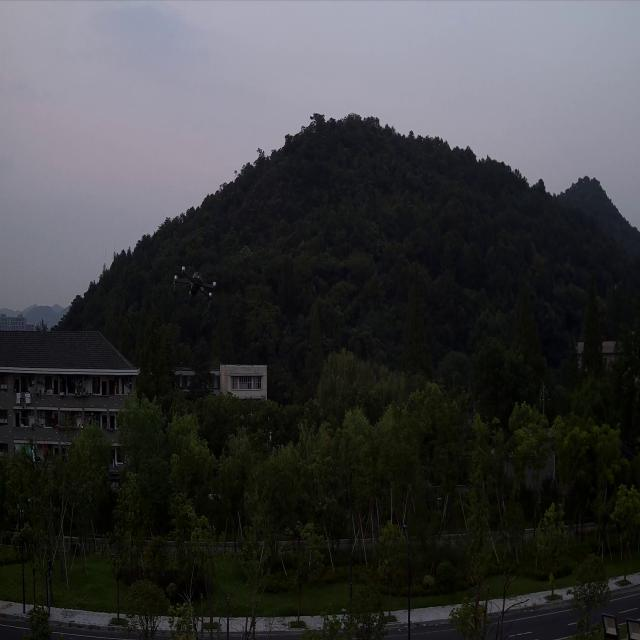UAV: (173, 261, 217, 301)
